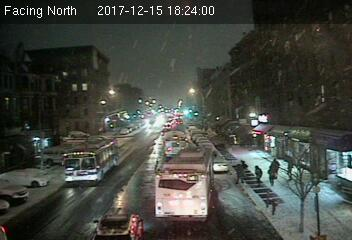bus: (156, 146, 217, 224), (65, 137, 120, 183)
car: (91, 208, 145, 240)
pedestrian: (267, 158, 279, 186), (234, 162, 247, 187), (252, 165, 263, 187)
